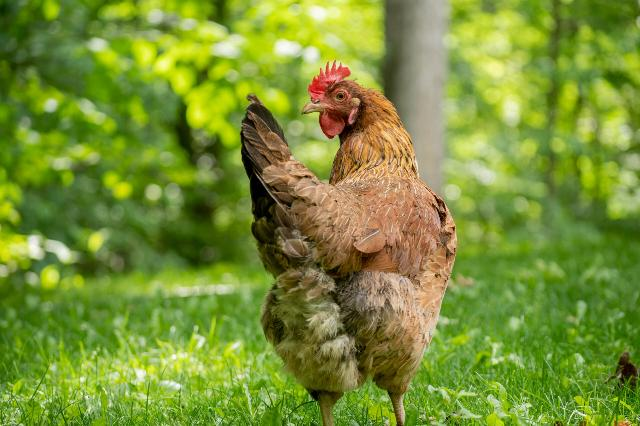Chicken: (240, 58, 457, 426)
